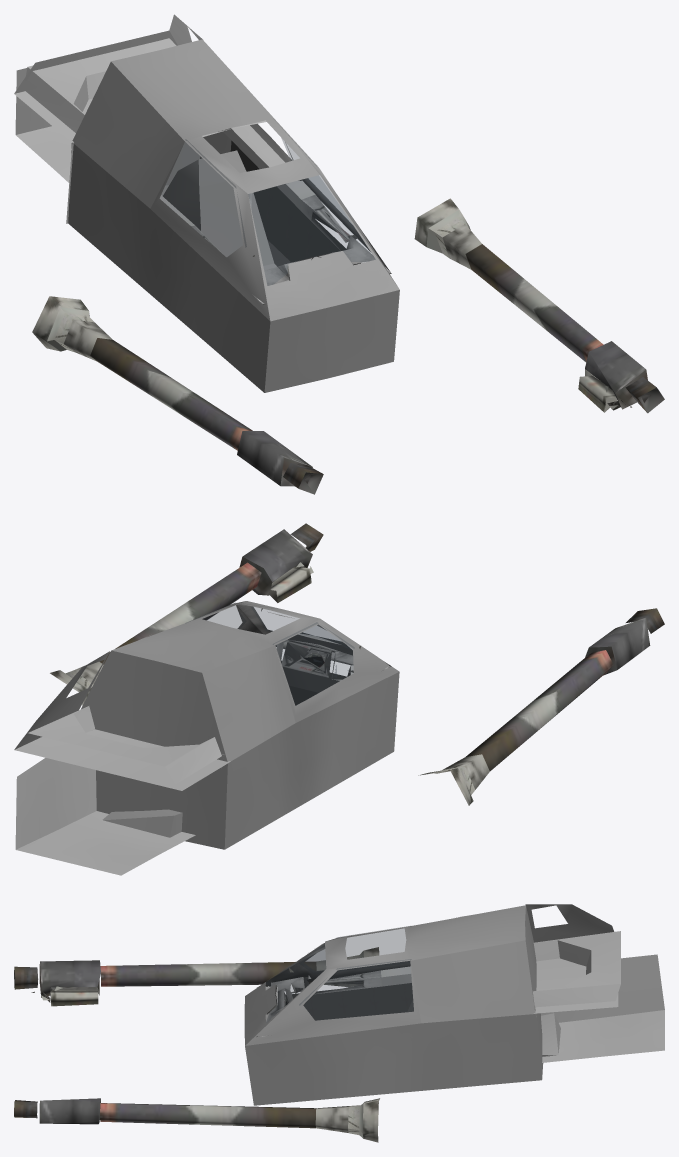
The model's file is snowspeedercockpit.lod1.glb.
The picture shows the model from 3 angles, top to bottom: view 1: azimuth 30°, elevation 25°; view 2: azimuth 150°, elevation 25°; view 3: azimuth 270°, elevation 25°; orthographic projection. The views are drawn at different scales.
Size of the model in its own units: 2.85 by 1.28 by 4.67.
4 materials, 3 textured.
